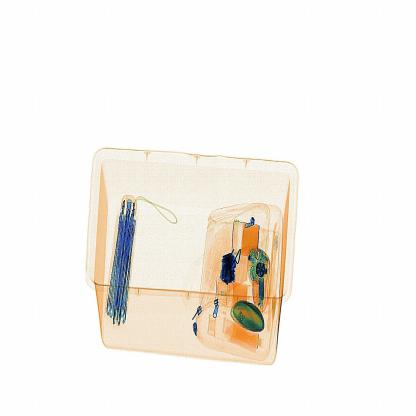scissors: (211, 243, 242, 285)
